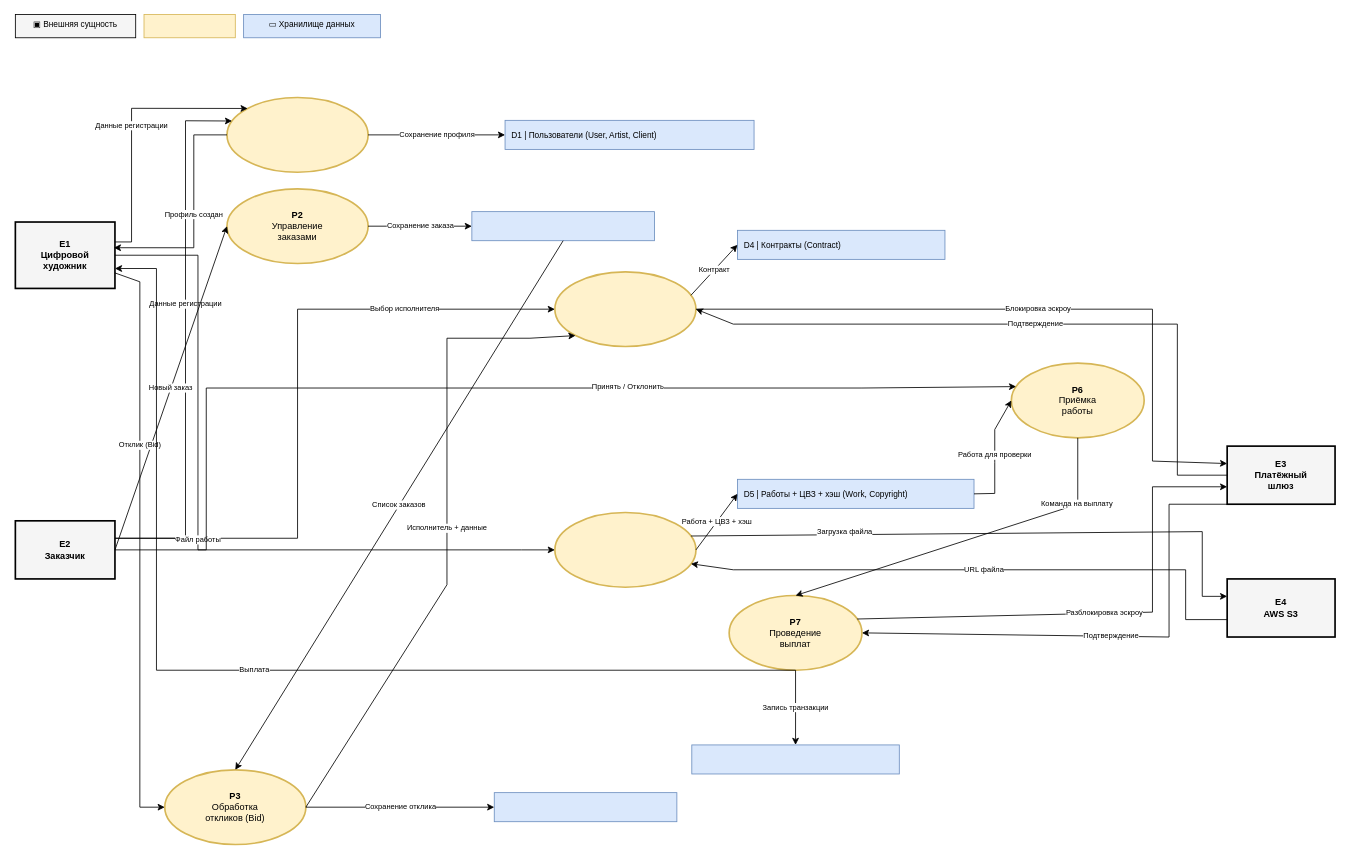
Some shapes in this 1350 by 860 pixel diagram are drawn without their labels. The shapes that lost their labels are listed below. From the top down, each one's centre as x and y in pixels, then its label:
At [189,26]: "● Процесс".
At [297,134]: "P1 Регистрация и верификация".
At [562,226]: "D2 | Заказы (Order)".
At [625,309]: "P4 Контракты и эскроу".
At [625,549]: "P5 Загрузка работы и ЦВЗ".
At [795,759]: "D7 | Транзакции (Transaction)".
At [585,807]: "D3 | Отклики (Bid)".
